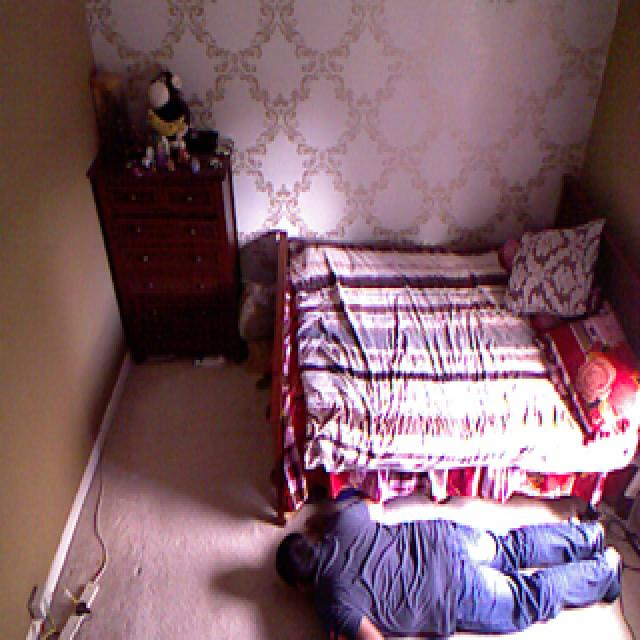lying: (270, 496, 622, 640)
